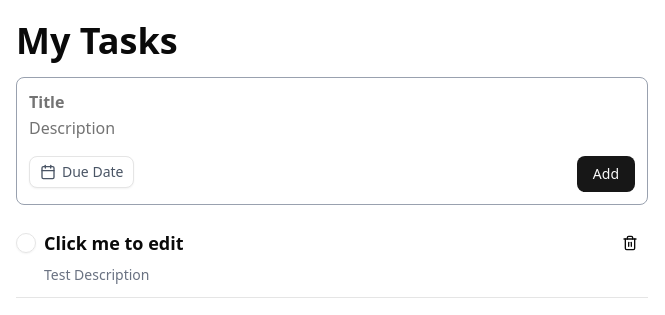
Scenario: App › enters edit mode when clicking a task and hides the add editor
This screenshot has width=665, height=315.
Check: the heading "My Tasks" is shown, box [16,16,178,65]
Check: the button "Add" is shown, box [577,156,635,192]
Note: Click the row to edit
Click the button "Click me to edit Test Description" at (114, 243), box [16,221,648,298]
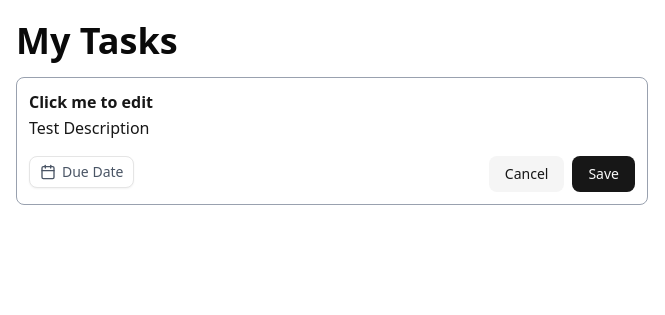
Check: the button "Save" is shown, box [572,156,635,192]
Check: the button "Add" is gone
